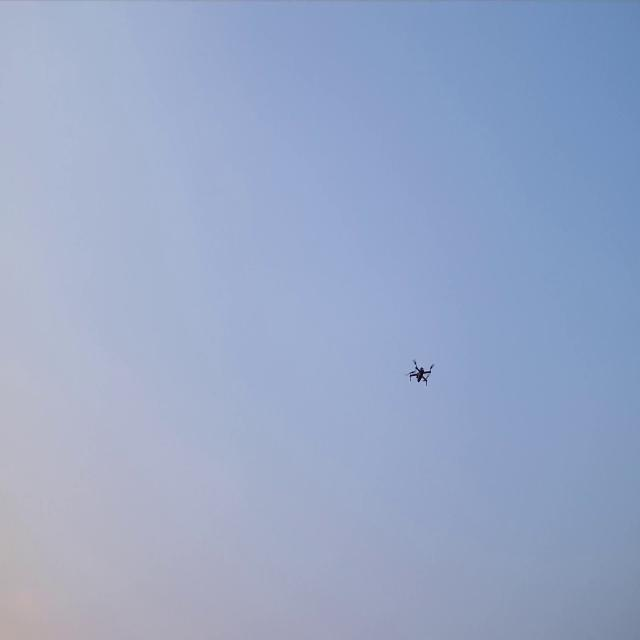UAV: (403, 355, 436, 388)
